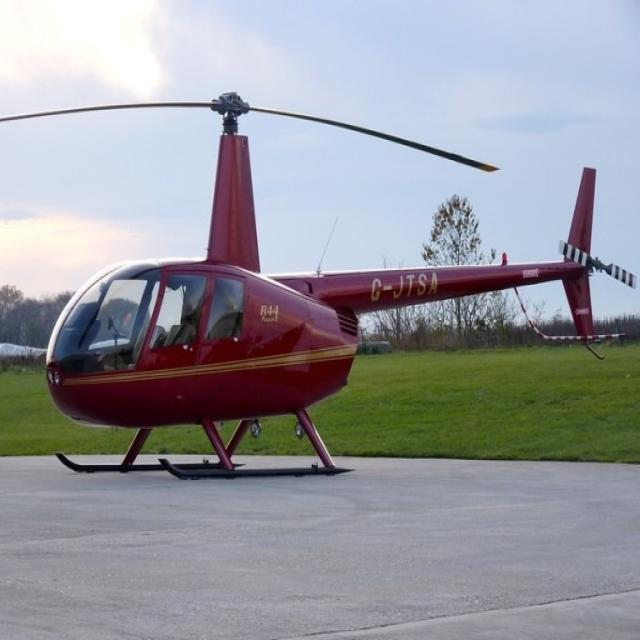CIV_HELO: (44, 86, 602, 485)
